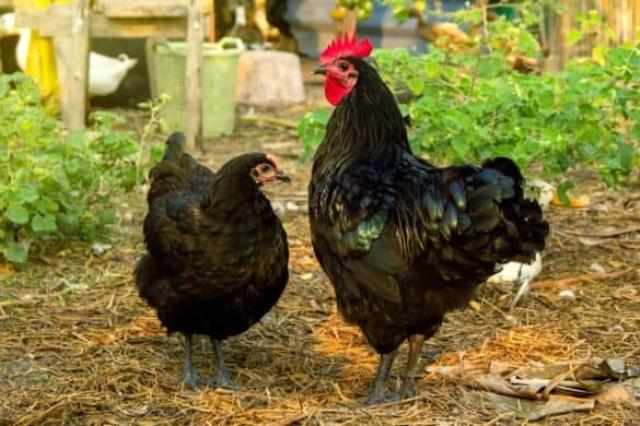Chicken: (308, 31, 550, 406), (132, 131, 291, 389)
